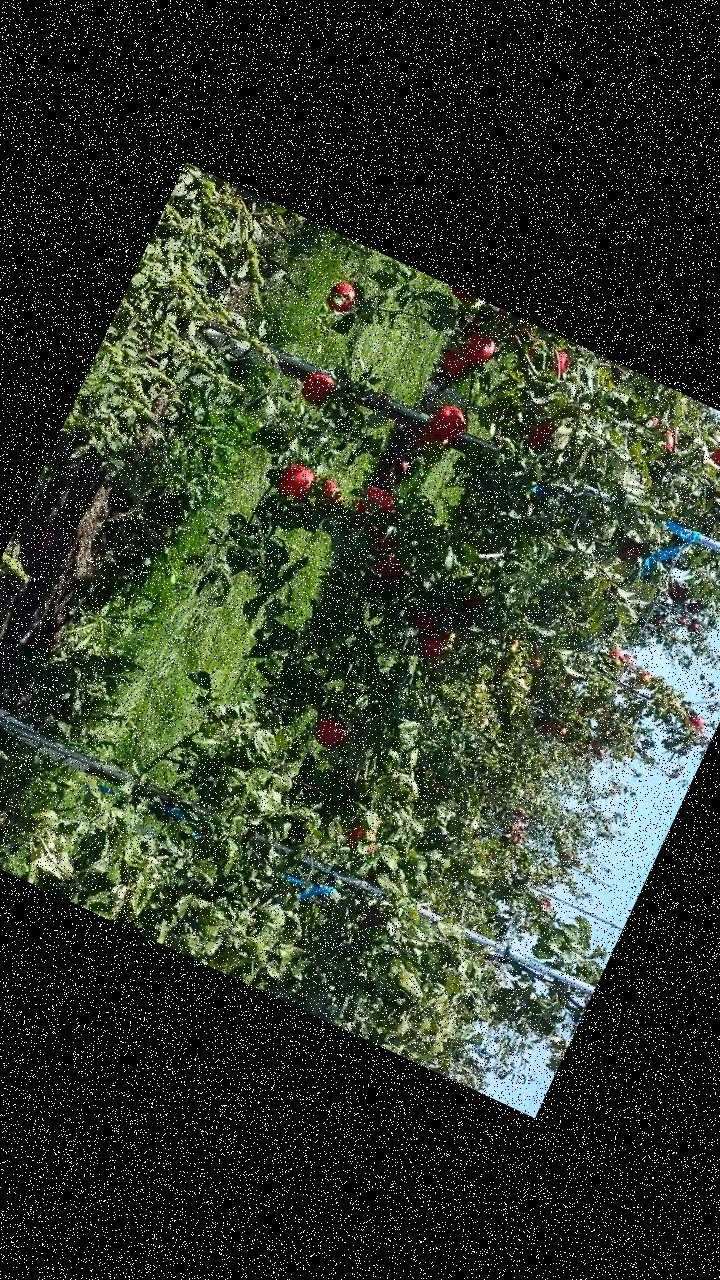Apple: (520, 410, 574, 464), (351, 480, 400, 528), (304, 472, 352, 520), (307, 706, 355, 753), (413, 622, 461, 668), (364, 546, 410, 592), (525, 338, 572, 383), (366, 512, 413, 557), (458, 569, 502, 616), (342, 816, 388, 860), (426, 400, 472, 444), (434, 342, 478, 388), (296, 364, 339, 410), (276, 458, 320, 502), (410, 421, 452, 465), (610, 524, 652, 566), (408, 600, 446, 640), (646, 422, 684, 457), (462, 328, 497, 364), (324, 280, 356, 314), (448, 288, 484, 312), (703, 434, 719, 473)
